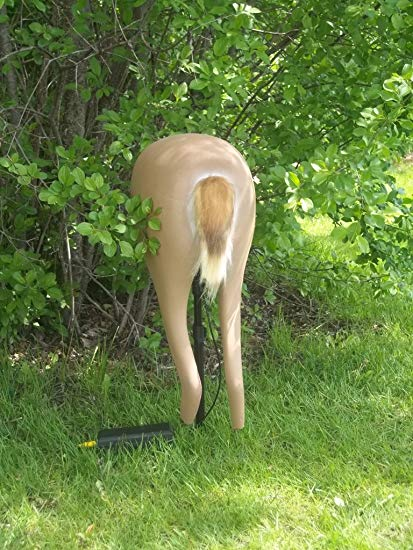Blackbuck: (113, 125, 257, 434)
